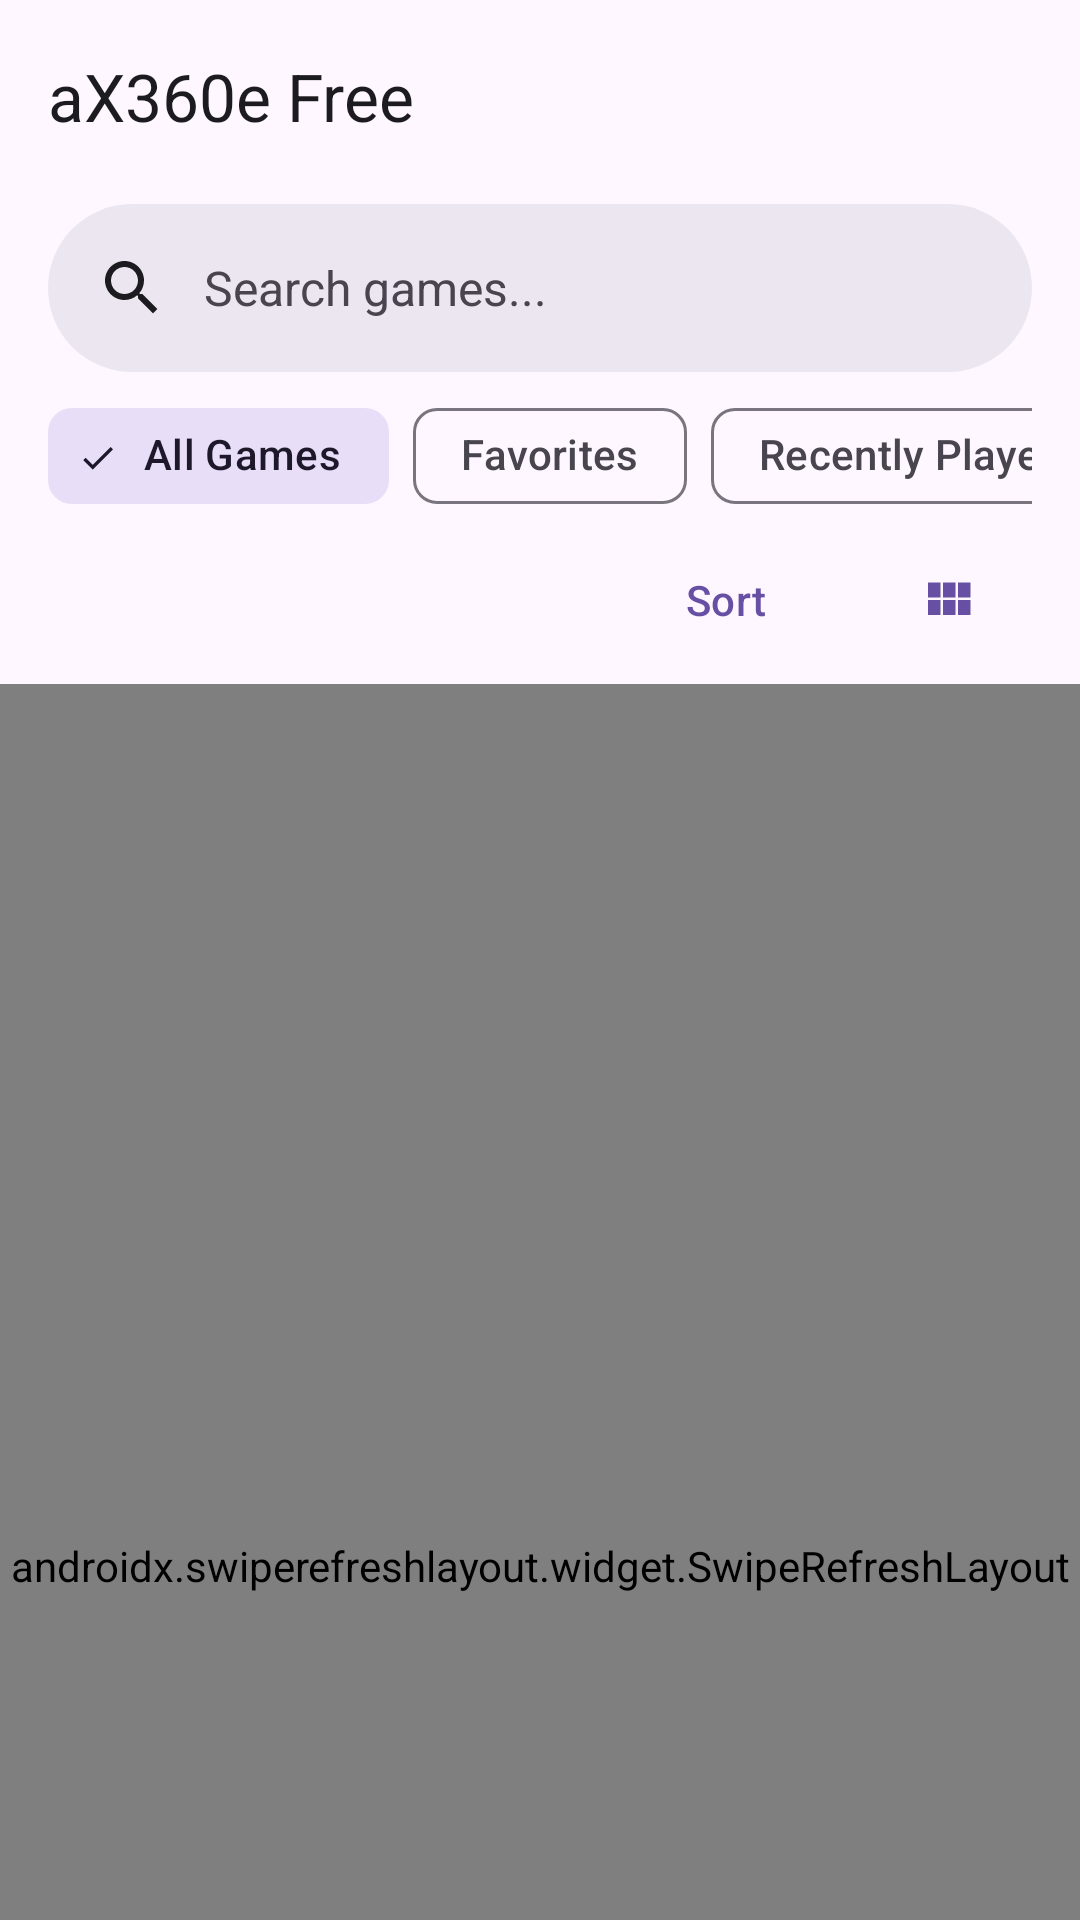

Named icons in this screenshot (1080w x 1920h) and their bounding boxes, (x1, y1, x2, y2):
grid view: (928, 582, 971, 615)
